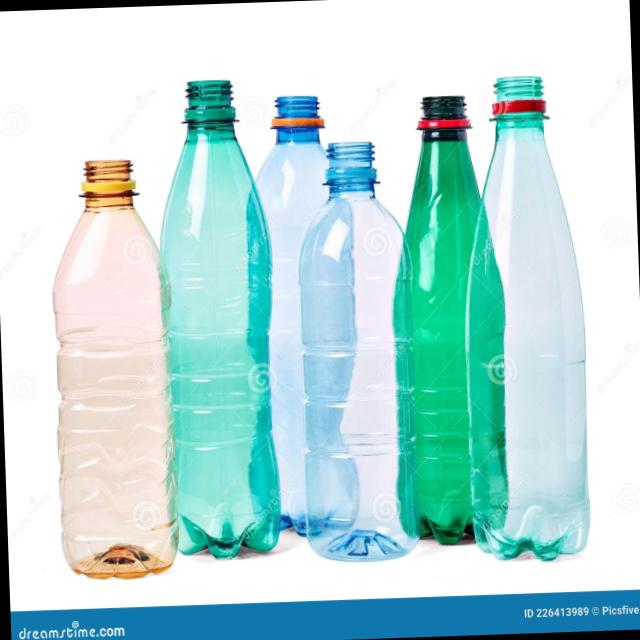plastic_bottle: (457, 68, 605, 577), (152, 73, 288, 568), (283, 134, 429, 562), (49, 145, 181, 576), (392, 88, 512, 540)
